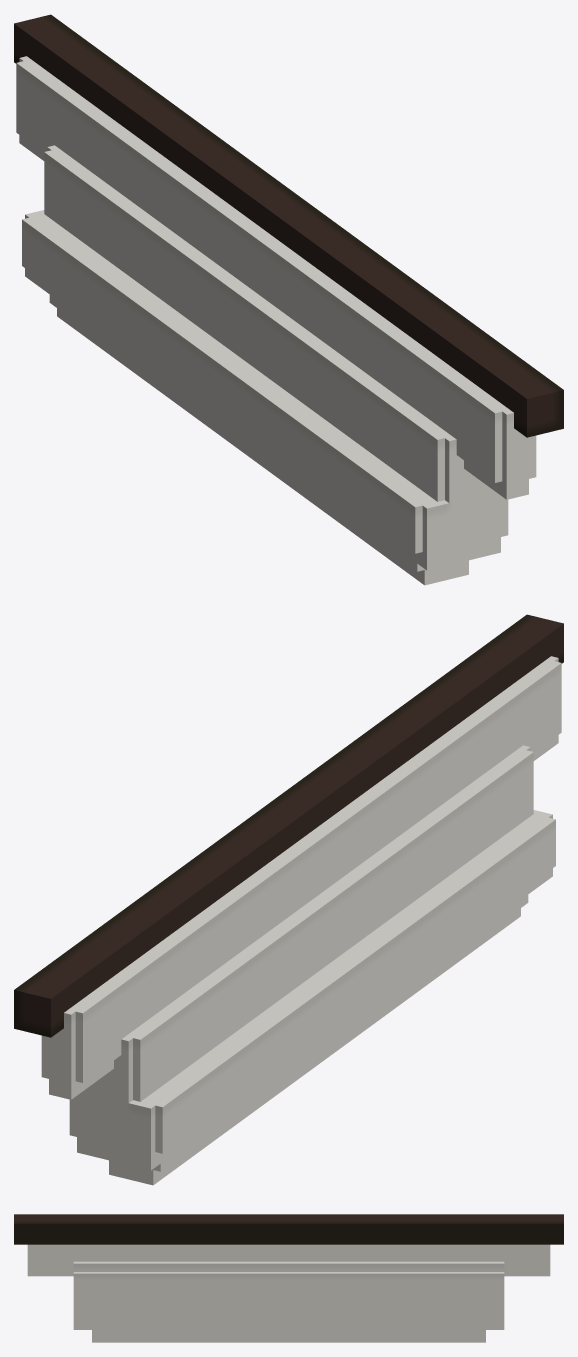
The model's file is Ship_Sail_00.fbx.
3 renders of one model, top to bottom at view 1: azimuth 30°, elevation 25°; view 2: azimuth 150°, elevation 25°; view 3: azimuth 270°, elevation 25°, orthographic. The views are drawn at different scales.
Parts seen in each view (by area): view 1: Ship_Sail_00; view 2: Ship_Sail_00; view 3: Ship_Sail_00.
Part boxes in pixels (x1,y1,x2,y2): Ship_Sail_00: (14, 14, 563, 585); Ship_Sail_00: (14, 614, 563, 1185); Ship_Sail_00: (14, 1214, 563, 1342).
Size of the model in its own units: 60 by 150 by 600.
